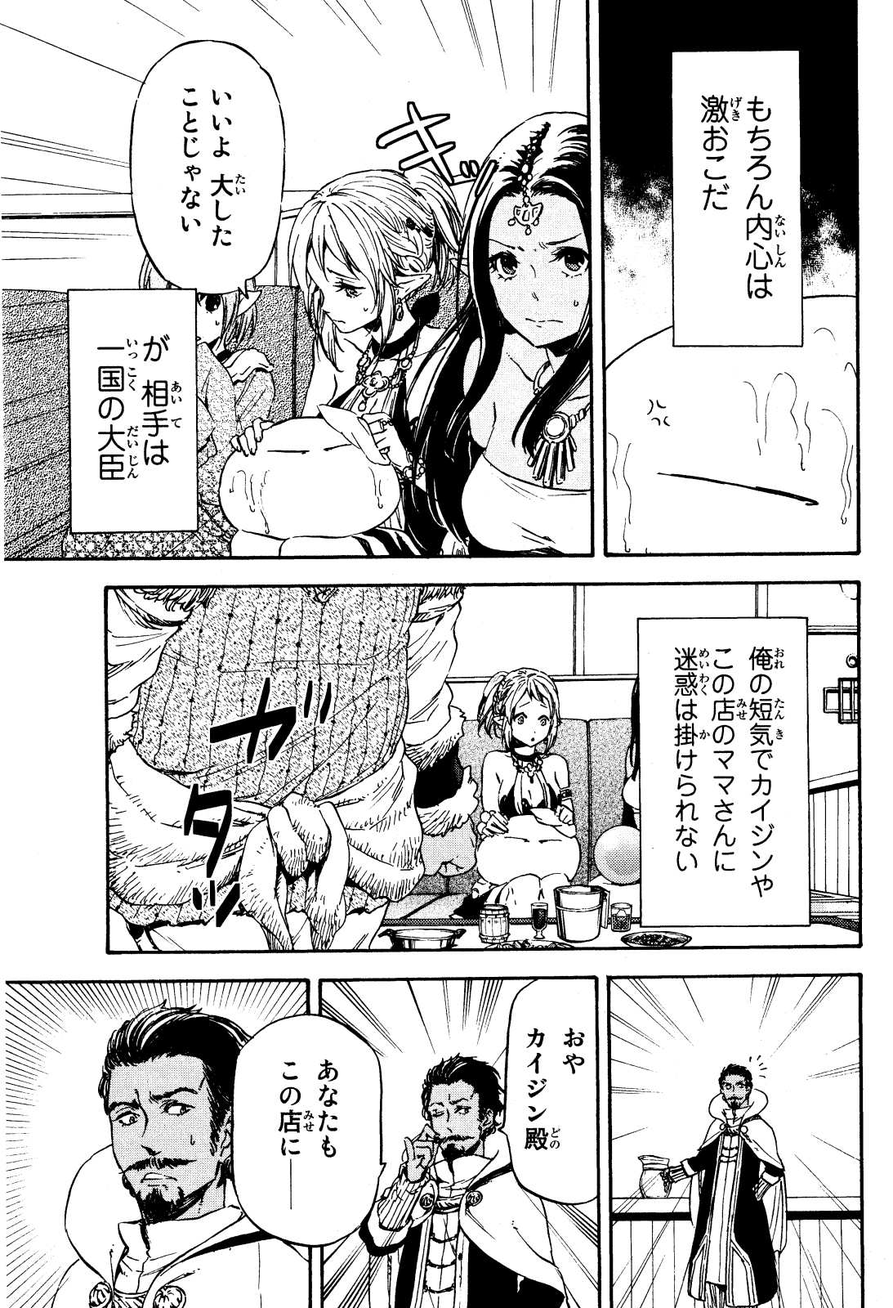bubbles: (631, 613, 820, 934), (118, 34, 297, 303), (663, 42, 813, 357), (51, 279, 209, 540), (223, 1011, 388, 1250), (498, 979, 605, 1207)
